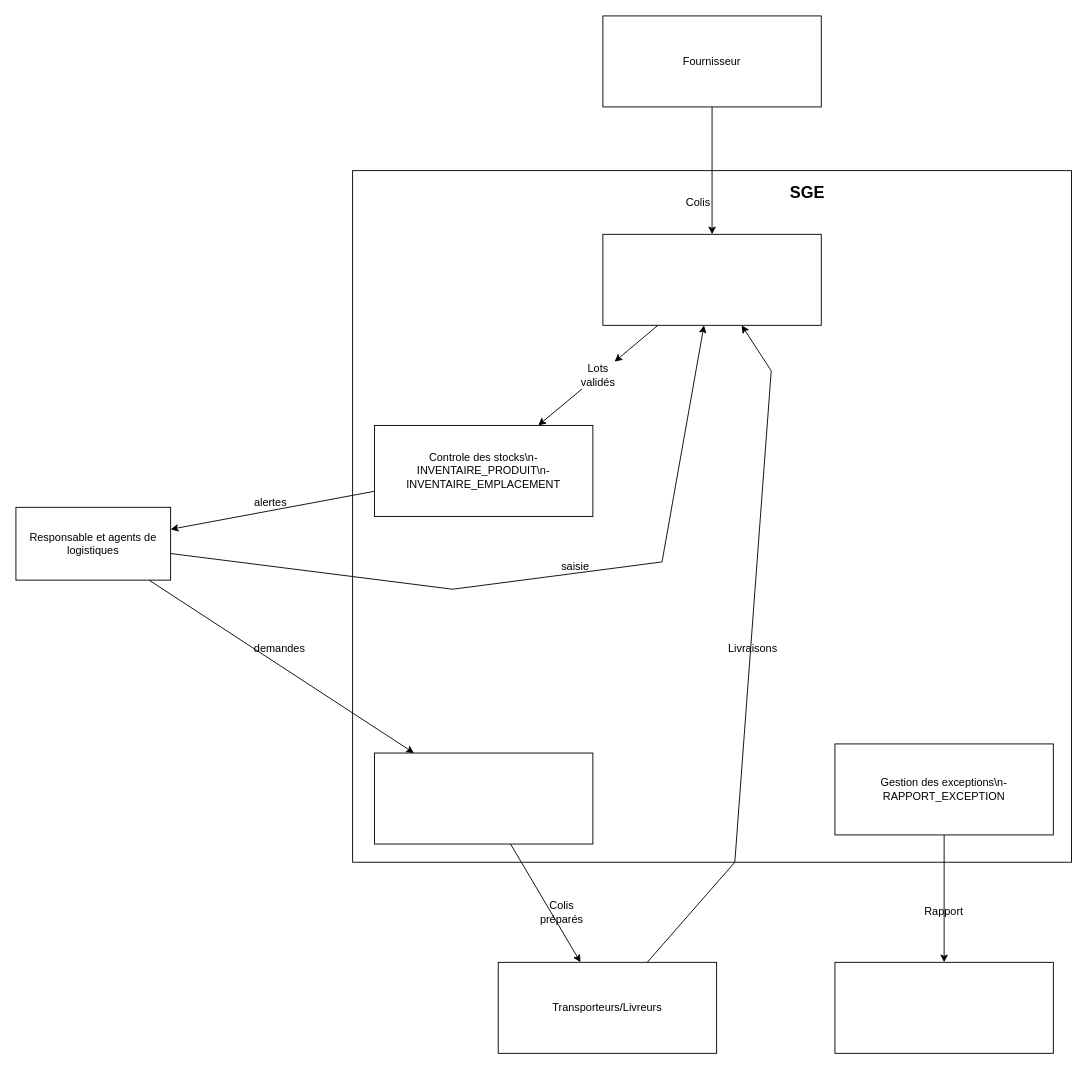
Some shapes in this 1087 by 1069 pixel diagram are drawn without their labels. Here are the shapes that lost their labels. From the top down, the centre of each, then its label:
At (711,279): "Gestion des réceptions\n-création BON_RECEPTION".
At (483,798): "Gestion des expeditions\n-création BON_EXPEDITION\n-préparation COLIS".
At (943,1007): "Responsable des stocks".
